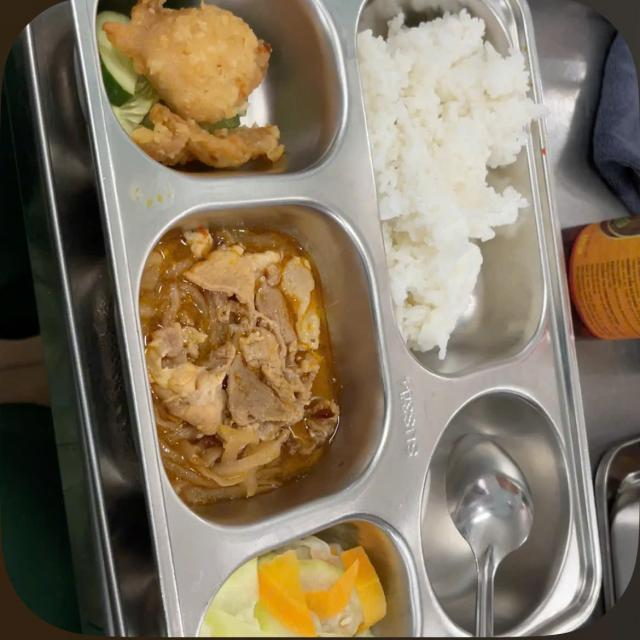com_trang: (361, 26, 581, 328)
ga_chien: (103, 0, 308, 169)
thit_kho: (137, 229, 367, 470)
